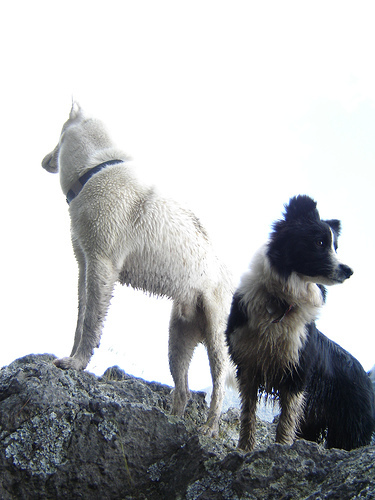dog: (40, 97, 233, 431), (221, 193, 373, 463)
